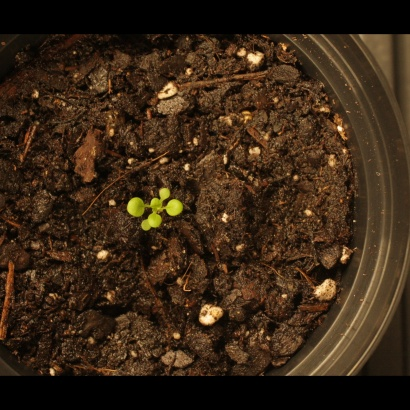leaf: (122, 196, 145, 219), (157, 177, 180, 200), (164, 200, 187, 223), (148, 207, 171, 230), (136, 215, 159, 238), (143, 192, 166, 215)
